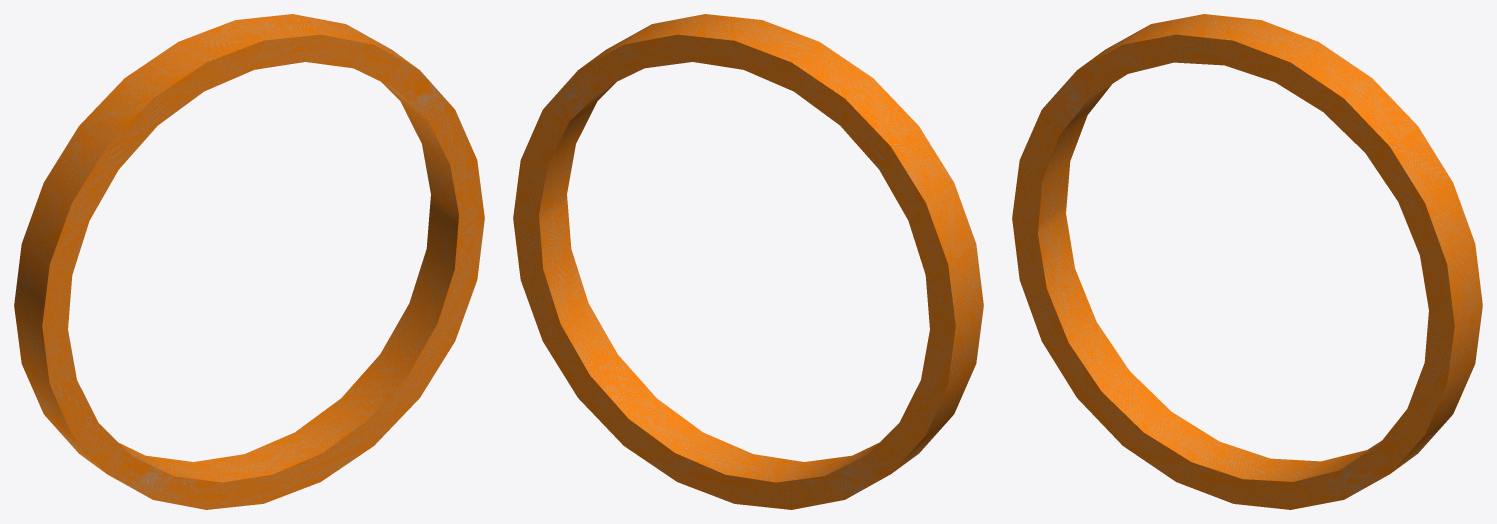
The model's file is treeSelectedIndicator.dae.
3 renders of one model, left to right at view 1: azimuth 30°, elevation 25°; view 2: azimuth 150°, elevation 25°; view 3: azimuth 330°, elevation 25°, orthographic.
Visible parts, largest first — view 1: SketchUp; view 2: SketchUp; view 3: SketchUp.
Part boxes in pixels (x1,y1,x2,y2): SketchUp: (14, 14, 484, 509); SketchUp: (513, 14, 983, 509); SketchUp: (1012, 14, 1482, 509).
Size of the model in its own units: 166 by 18.21 by 166.
